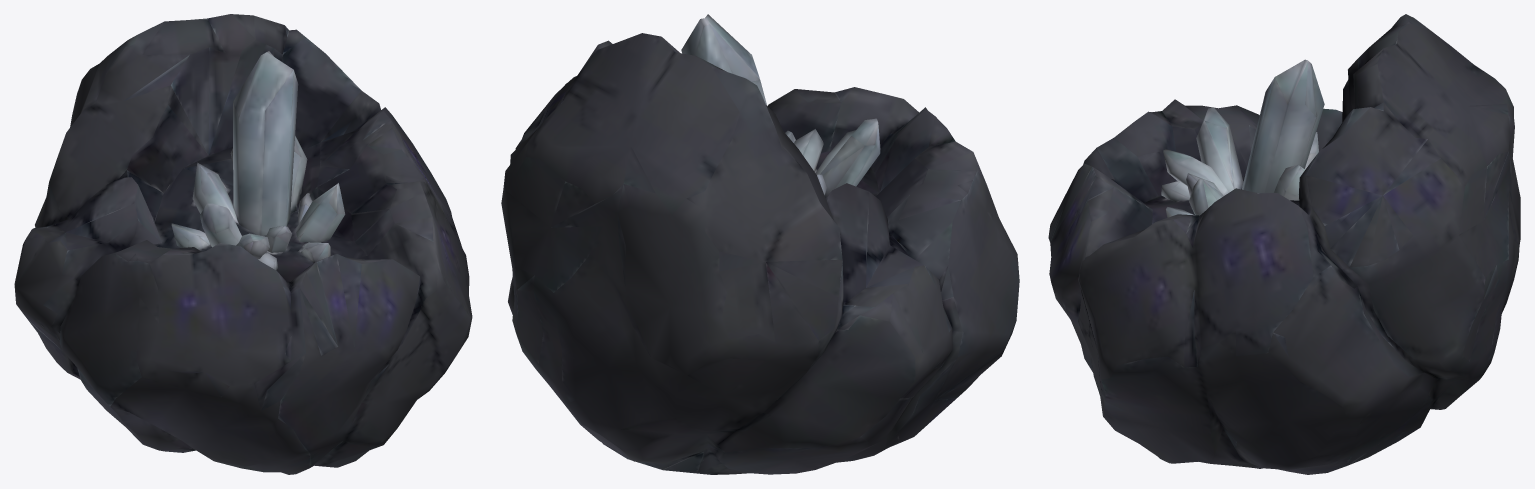
Rendered from prop_node_ore_geode.glb.
The picture shows the model from 3 angles, left to right: view 1: azimuth 30°, elevation 25°; view 2: azimuth 150°, elevation 25°; view 3: azimuth 270°, elevation 25°; orthographic projection. The views are drawn at different scales.
Parts seen in each view (by area): view 1: tripo_node_c519e3aa-f8fc-41be-80db-6ed33f1a7bd1; view 2: tripo_node_c519e3aa-f8fc-41be-80db-6ed33f1a7bd1; view 3: tripo_node_c519e3aa-f8fc-41be-80db-6ed33f1a7bd1.
Part boxes in pixels (x1,y1,x2,y2): tripo_node_c519e3aa-f8fc-41be-80db-6ed33f1a7bd1: (14,14,472,474); tripo_node_c519e3aa-f8fc-41be-80db-6ed33f1a7bd1: (501,14,1019,474); tripo_node_c519e3aa-f8fc-41be-80db-6ed33f1a7bd1: (1048,14,1520,474).
Bounding box in the file's own units: 0.998 × 0.9589 × 0.998.
1 material, 1 textured.
